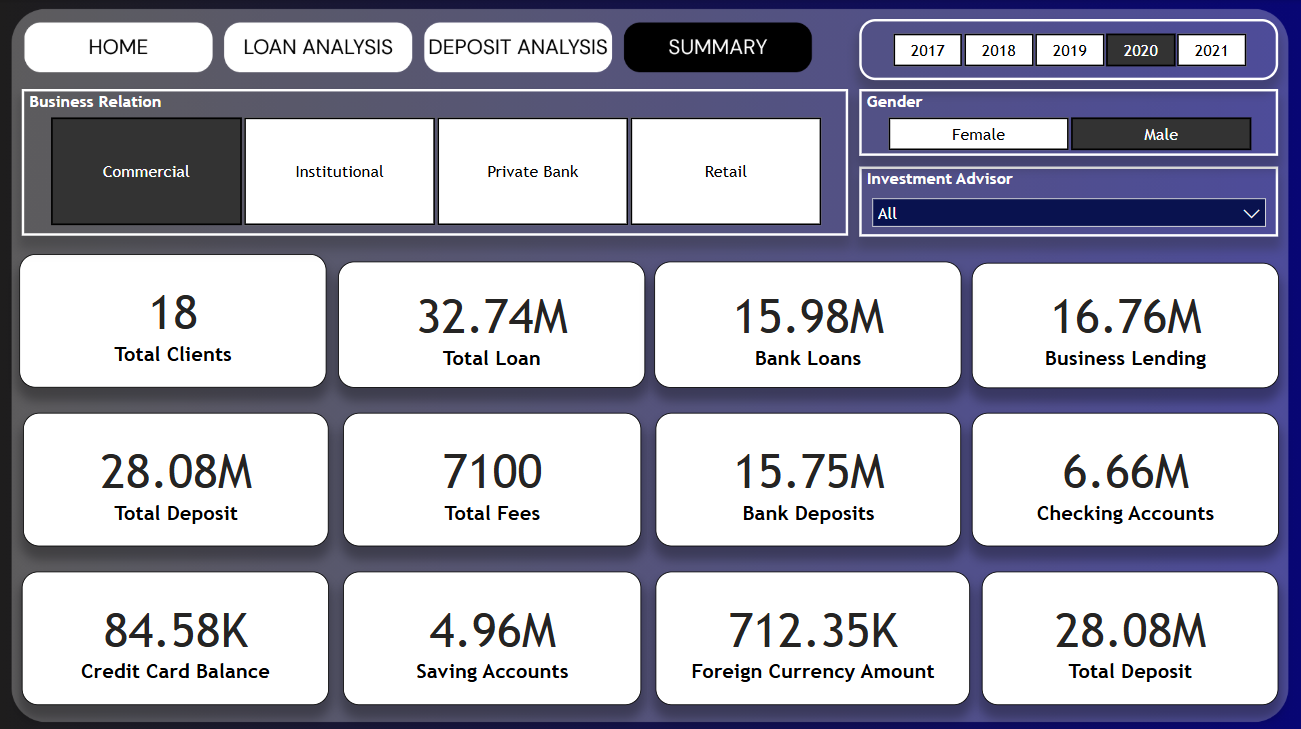

This screenshot's page, from the dashboard's own definition file:
{"tool":"powerbi","page":{"name":"Summary","canvas":[1280,720],"ordinal":3},"visuals":[{"type":"card","fields":{"Values":["CountNonNull(Banking.Client ID)"]},"box":[21.4,250,301.4,131.4],"z":0},{"type":"card","fields":{"Values":["Measures Table.Total Loan"]},"box":[334.3,257.1,301.4,124.3],"z":1000},{"type":"card","fields":{"Values":["Measures Table.Total Deposit"]},"box":[24.3,405.7,300,131.4],"z":2000},{"type":"card","fields":{"Values":["Sum(Banking.Business Lending)"]},"box":[955.7,258.6,301.4,122.9],"z":3000},{"type":"card","fields":{"Values":["Sum(Banking.Saving Accounts)"]},"box":[338.6,561.4,292.9,131.4],"z":4000},{"type":"card","fields":{"Values":["Sum(Banking.Checking Accounts)"]},"box":[955.7,405.7,301.4,131.4],"z":5000},{"type":"card","fields":{"Values":["Sum(Banking.Credit Card Balance)"]},"box":[22.9,561.4,301.4,131.4],"z":6000},{"type":"card","fields":{"Values":["Sum(Banking.Bank Loans)"]},"box":[644.3,257.1,301.4,124.3],"z":7000},{"type":"card","fields":{"Values":["Sum(Banking.Fee Structure)"]},"box":[338.6,405.7,292.9,131.4],"z":8000},{"type":"card","fields":{"Values":["Sum(Banking.Bank Deposits)"]},"box":[645.7,405.7,300,131.4],"z":9000},{"type":"card","fields":{"Values":["Sum(Banking.Foreign Currency Account)"]},"box":[645.7,561.4,308.6,131.4],"z":10000},{"type":"card","fields":{"Values":["Measures Table.Total Deposit"]},"box":[965.7,561.4,291.4,131.4],"z":11000},{"type":"slicer","fields":{"Values":["Banking.Year of Joining"]},"box":[845.7,20,411.4,60],"z":12000},{"type":"slicer","title":"Investment Advisor","fields":{"Values":["Banking.IAId"]},"box":[845.7,164.3,411.4,68.6],"z":13000},{"type":"slicer","title":"Gender","fields":{"Values":["Banking.GenderId"]},"box":[845.7,88.6,411.4,65.7],"z":14000},{"type":"slicer","title":"Business Relation","fields":{"Values":["Banking.BRId"]},"box":[22.9,88.6,811.4,144.3],"z":15000},{"type":"actionButton","box":[24.3,30,181.4,40],"z":16000},{"type":"actionButton","box":[221.4,30,181.4,40],"z":17000},{"type":"actionButton","box":[418.6,30,181.4,40],"z":18000},{"type":"actionButton","box":[614.3,30,181.4,40],"z":19000}]}

Visuals, with their boxes in screenshot pixels (x1, y1, x2, y2), scaled from the page's 1280x720 canvas onto the 1301x729 screenshot:
card - CountNonNull(Banking.Client ID): locate(22, 253, 328, 386)
card - Measures Table.Total Loan: locate(340, 260, 646, 386)
card - Measures Table.Total Deposit: locate(25, 411, 330, 544)
card - Sum(Banking.Business Lending): locate(971, 262, 1278, 386)
card - Sum(Banking.Saving Accounts): locate(344, 568, 642, 701)
card - Sum(Banking.Checking Accounts): locate(971, 411, 1278, 544)
card - Sum(Banking.Credit Card Balance): locate(23, 568, 330, 701)
card - Sum(Banking.Bank Loans): locate(655, 260, 961, 386)
card - Sum(Banking.Fee Structure): locate(344, 411, 642, 544)
card - Sum(Banking.Bank Deposits): locate(656, 411, 961, 544)
card - Sum(Banking.Foreign Currency Account): locate(656, 568, 970, 701)
card - Measures Table.Total Deposit: locate(982, 568, 1278, 701)
slicer - Banking.Year of Joining: locate(860, 20, 1278, 81)
"Investment Advisor" slicer: locate(860, 166, 1278, 236)
"Gender" slicer: locate(860, 90, 1278, 156)
"Business Relation" slicer: locate(23, 90, 848, 236)
actionButton: locate(25, 30, 209, 71)
actionButton: locate(225, 30, 409, 71)
actionButton: locate(425, 30, 610, 71)
actionButton: locate(624, 30, 809, 71)
